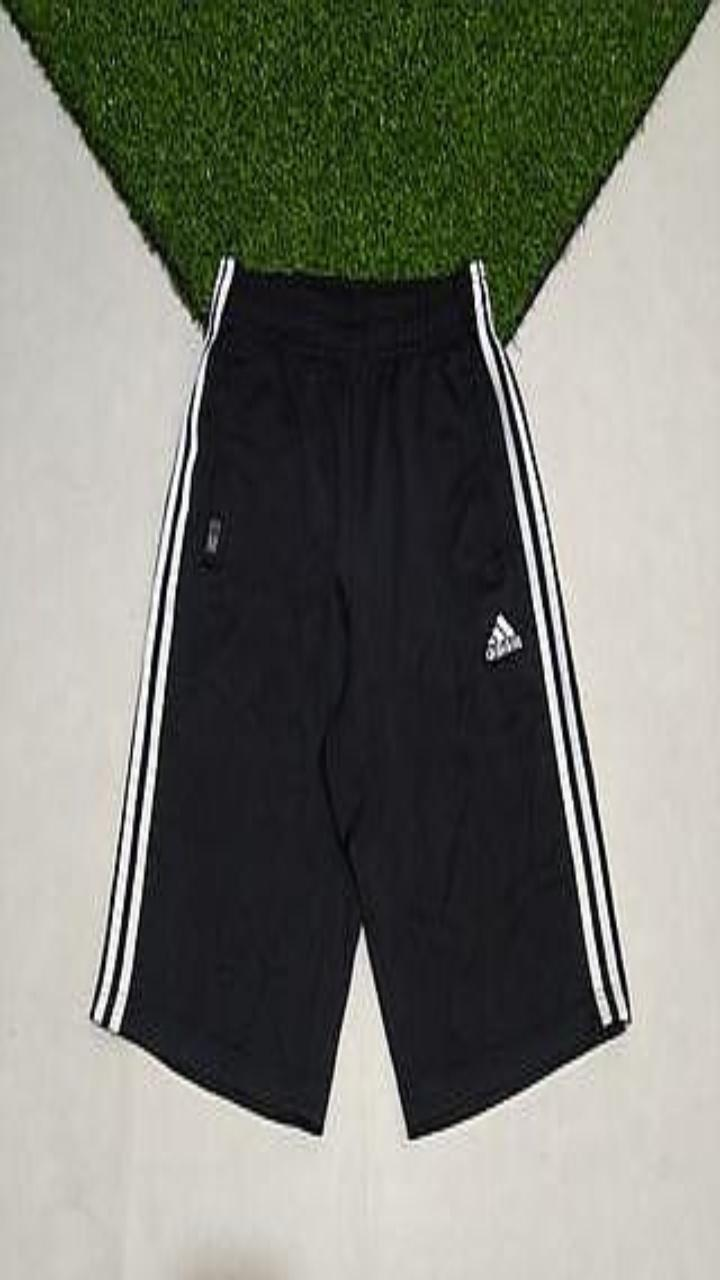Shorts: (91, 257, 629, 1135)
